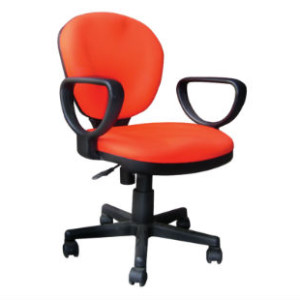chairs: (57, 12, 249, 290)
